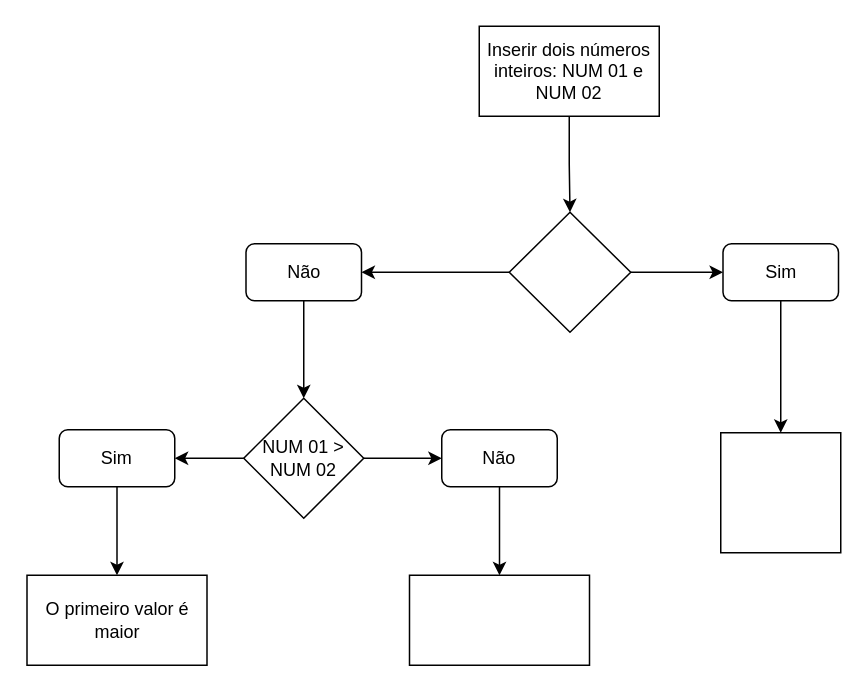
Image size: 867x692. Some labels were removed from this diagram. Each missing label, with the box of its shape:
NUM 01 = NUM 02: (508, 211, 631, 332)
Não existe valor maior, os dois são iguais.: (719, 431, 841, 553)
O segundo valor é maior: (408, 574, 590, 665)
